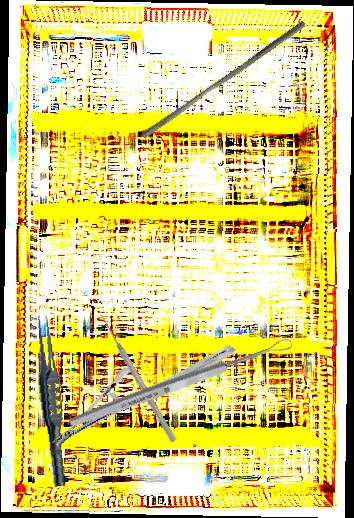Needle Holder: (51, 293, 237, 499)
Pusher: (140, 14, 307, 145), (96, 311, 179, 444)
Surgical Spoon: (67, 335, 294, 431)
Tissue Forceps: (29, 314, 74, 488)
